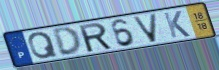6: (111, 17, 136, 48)
D: (51, 26, 83, 57)
K: (161, 9, 192, 39)
Q: (27, 31, 60, 60)
R: (77, 21, 115, 54)
V: (131, 12, 159, 44)
